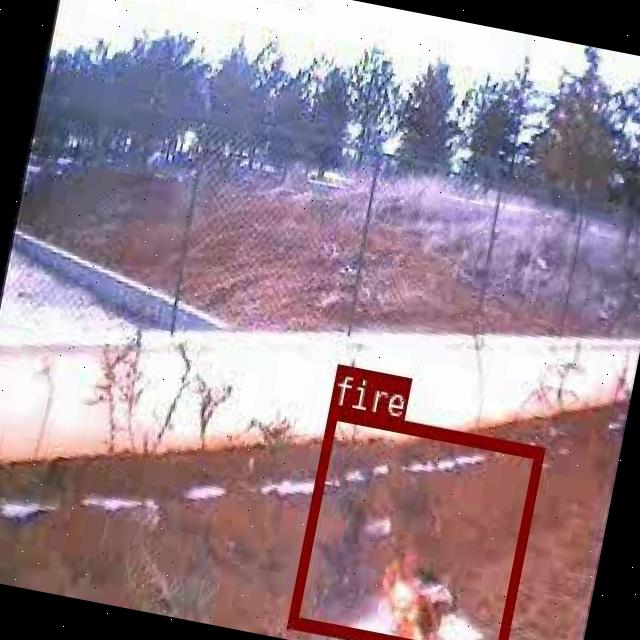fire: (286, 405, 542, 640)
